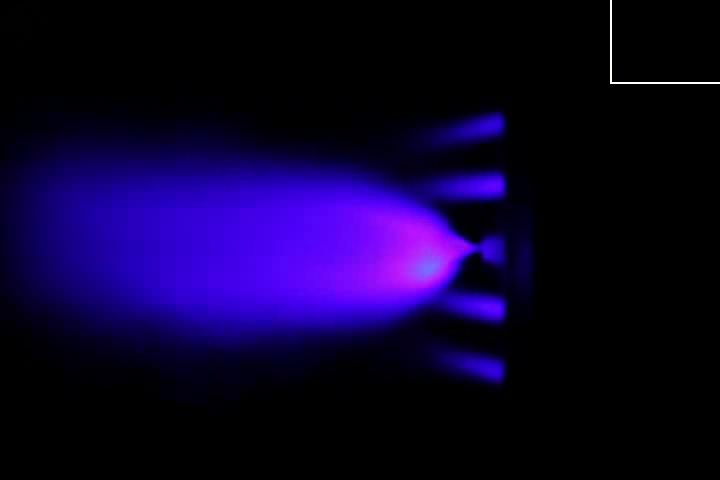burner cap: (482, 229, 508, 267)
pilot flame: (407, 109, 503, 149), (415, 169, 507, 206), (429, 346, 507, 385), (439, 291, 509, 328)
stable: (311, 197, 479, 300)
